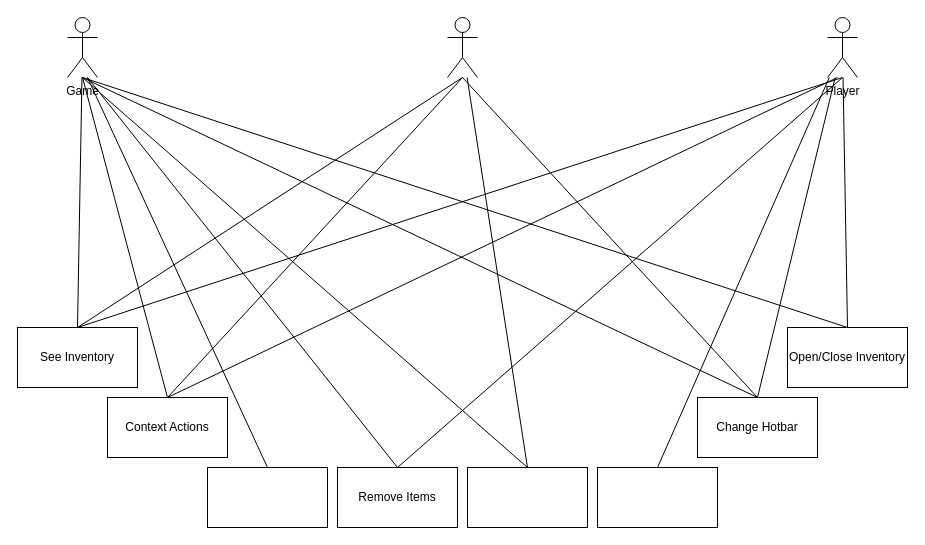
Image size: 925x545. Some labels were removed from this diagram. The shapes that lost their labels are listed below. From the top down, each one's box as (x1, y1, x2, y2) in pixels, then its label:
(446, 16, 478, 78): Mod
(206, 466, 328, 528): Add Items
(466, 466, 588, 528): Add UI
(596, 466, 718, 528): Equip Items
